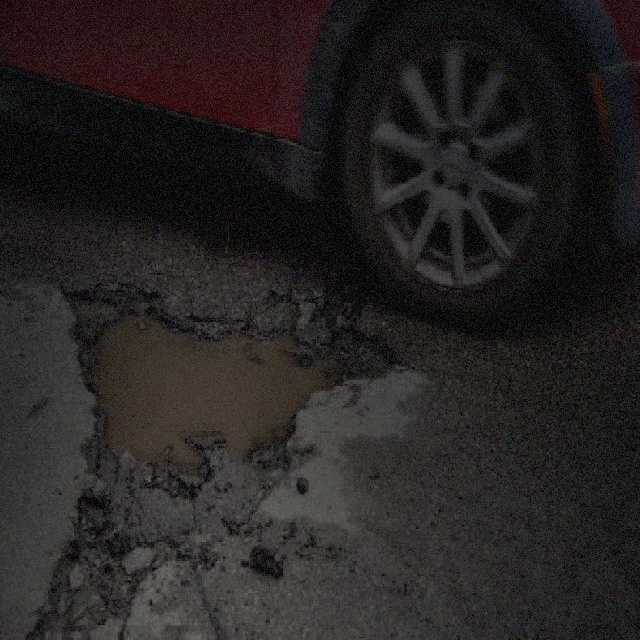pothole: (57, 275, 401, 476)
